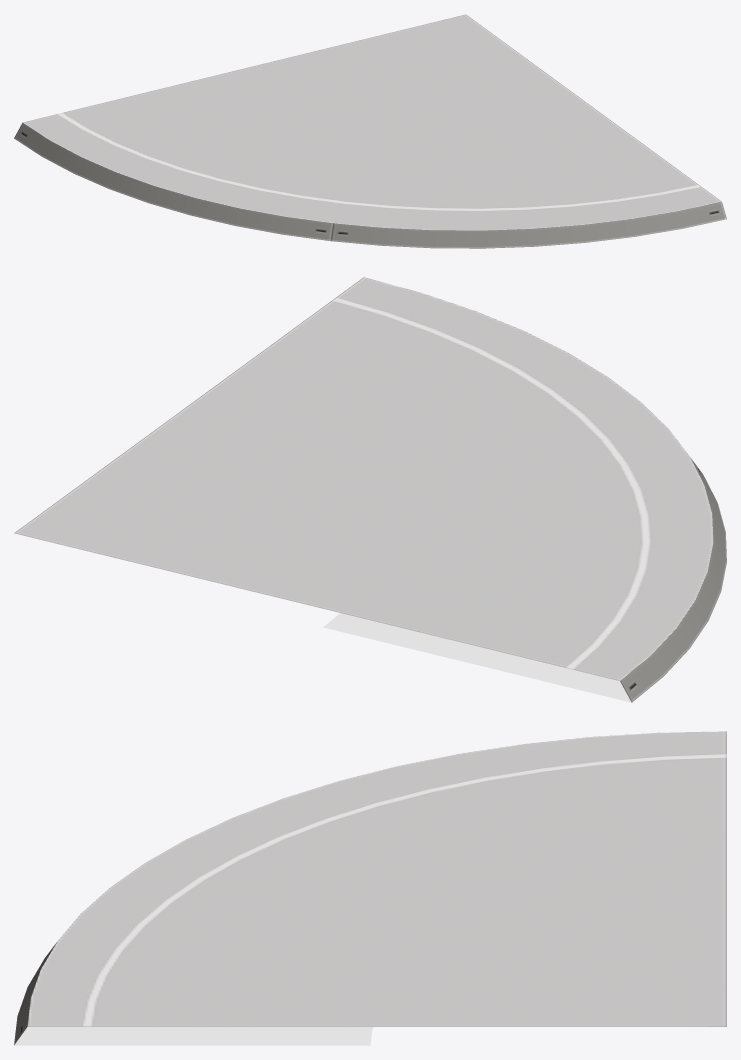
Rendered from Podium_Part_01.FBX.
3 views of the same model, one above another, from view 1: azimuth 30°, elevation 25°; view 2: azimuth 150°, elevation 25°; view 3: azimuth 270°, elevation 25° (orthographic). The views are drawn at different scales.
Visible parts, largest first — view 1: Podium_Part_01; view 2: Podium_Part_01; view 3: Podium_Part_01.
Boxes of the visible parts, box(x1,y1,x2,y2) form: Podium_Part_01: box(14, 14, 726, 248); Podium_Part_01: box(14, 277, 726, 702); Podium_Part_01: box(14, 731, 726, 1045).
Size of the model in its own units: 4.86 by 0.1409 by 4.86.
